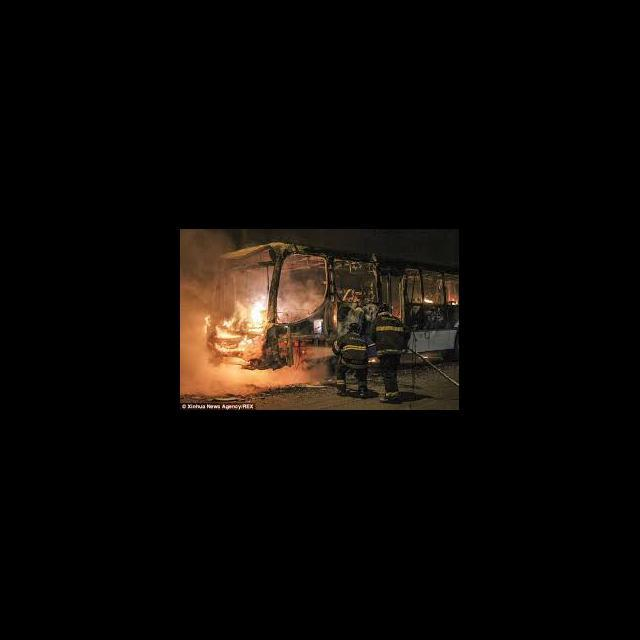Fire: (243, 292, 285, 330), (422, 296, 436, 304)
Smoke: (182, 233, 204, 394), (206, 367, 302, 393)
